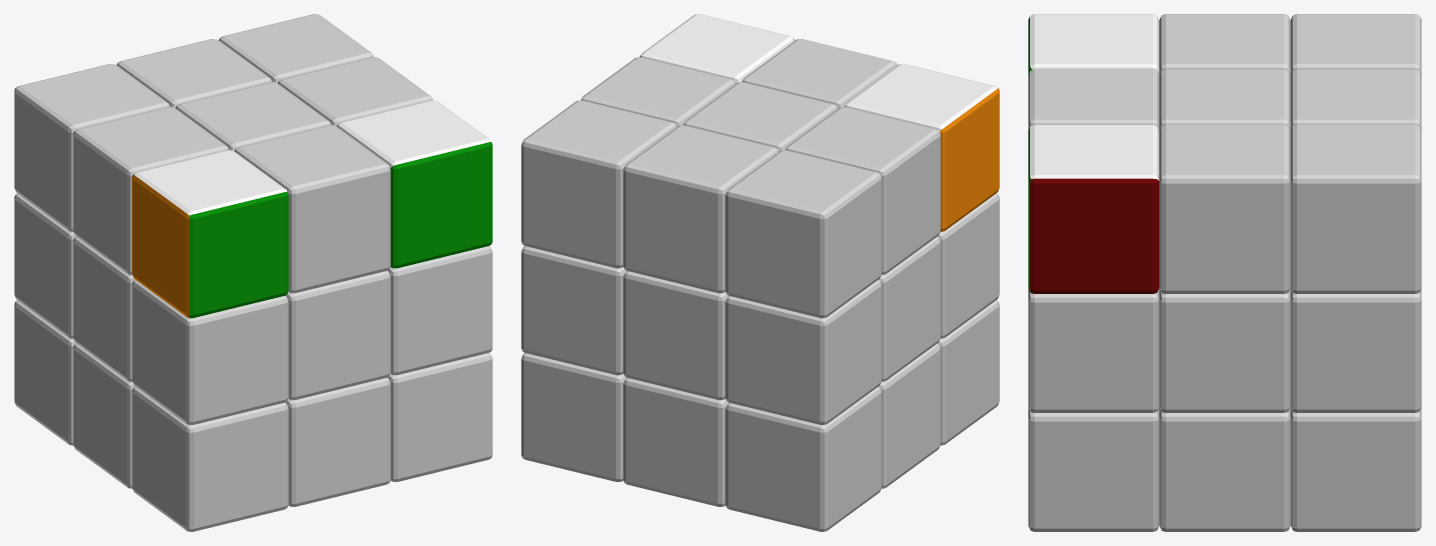
Rendered from Ordiks_Cube_Parent_Objects_for_Mats_00.glb.
3 views of the same model, side by side, from view 1: azimuth 30°, elevation 25°; view 2: azimuth 150°, elevation 25°; view 3: azimuth 270°, elevation 25° (orthographic). The views are drawn at different scales.
Visible parts, largest first — view 1: -1,-1,1, -1,0,1, 0,1,1, -1,1-1, -1,1,0, 1,0,1, 0,0,1, 1,-1,1, 0,-1,1, 1,1,1.002, -1,1,1.002, -1,-1,-1 (+10 smaller); view 2: -1,1-1, -1,-1,-1, -1,0,-1, 0,1,-1, 1,1,-1, -1,1,0, 1,0,-1, 0,0,-1, 1,-1,-1, 0,-1,-1, -1,-1,1, -1,0,1 (+8 smaller); view 3: 1,1,0, 1,1,-1, 1,0,0, 1,0,-1, 1,-1,0, 1,0,1, 1,-1,1, 1,-1,-1, 1,1,1.001, -1,1,0, 0,1,1, 0,1,-1 (+4 smaller).
Part boxes in pixels (x1,y1,x2,y2): -1,-1,1: [132, 386, 288, 531]; -1,0,1: [132, 280, 288, 424]; 0,1,1: [234, 125, 390, 293]; -1,1-1: [14, 64, 169, 231]; -1,1,0: [73, 107, 228, 274]; 1,0,1: [387, 246, 492, 375]; 0,0,1: [285, 271, 390, 400]; 1,-1,1: [387, 352, 492, 481]; 0,-1,1: [285, 377, 390, 506]; 1,1,1.002: [390, 142, 492, 268]; -1,1,1.002: [189, 192, 288, 318]; -1,-1,-1: [14, 300, 76, 445]; -1,1-1: [725, 150, 881, 318]; -1,-1,-1: [725, 386, 881, 531]; -1,0,-1: [725, 280, 881, 424]; 0,1,-1: [623, 125, 779, 293]; 1,1,-1: [521, 100, 677, 268]; -1,1,0: [785, 107, 940, 274]; 1,0,-1: [521, 246, 626, 375]; 0,0,-1: [623, 271, 728, 400]; 1,-1,-1: [521, 352, 626, 481]; 0,-1,-1: [623, 377, 728, 506]; -1,-1,1: [937, 300, 999, 445]; -1,0,1: [937, 193, 999, 338]; 1,1,0: [1159, 125, 1290, 293]; 1,1,-1: [1290, 125, 1421, 293]; 1,0,0: [1159, 288, 1290, 412]; 1,0,-1: [1290, 288, 1421, 412]; 1,-1,0: [1159, 407, 1290, 531]; 1,0,1: [1028, 289, 1159, 412]; 1,-1,1: [1028, 407, 1159, 531]; 1,-1,-1: [1290, 407, 1421, 531]; 1,1,1.001: [1030, 178, 1159, 293]; -1,1,0: [1159, 14, 1290, 74]; 0,1,1: [1028, 69, 1159, 130]; 0,1,-1: [1290, 69, 1421, 130].
Bounding box in the file's own units: 3 × 3 × 3.
